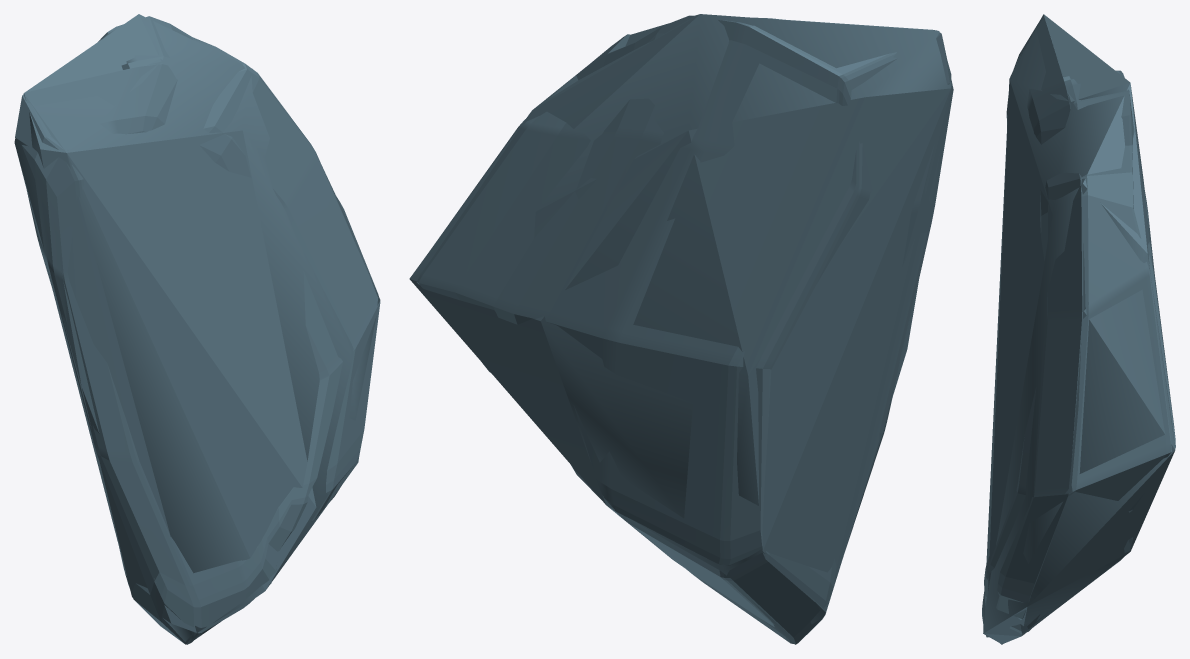
File: rocks_round_K.fbx
3 views of the same model, side by side, from view 1: azimuth 30°, elevation 25°; view 2: azimuth 150°, elevation 25°; view 3: azimuth 270°, elevation 25° (orthographic). The views are drawn at different scales.
Parts seen in each view (by area): view 1: c_ROCKSROUND_K, ROCKSROUND_K; view 2: c_ROCKSROUND_K, ROCKSROUND_K; view 3: c_ROCKSROUND_K, ROCKSROUND_K.
Boxes of the visible parts, <box> form: c_ROCKSROUND_K: <box>14,14,380,644</box>; ROCKSROUND_K: <box>15,16,380,644</box>; c_ROCKSROUND_K: <box>409,14,951,644</box>; ROCKSROUND_K: <box>417,15,953,644</box>; c_ROCKSROUND_K: <box>983,14,1175,643</box>; ROCKSROUND_K: <box>982,15,1175,644</box>.
Bounding box in the file's own units: 71.88 × 101 × 31.07.
